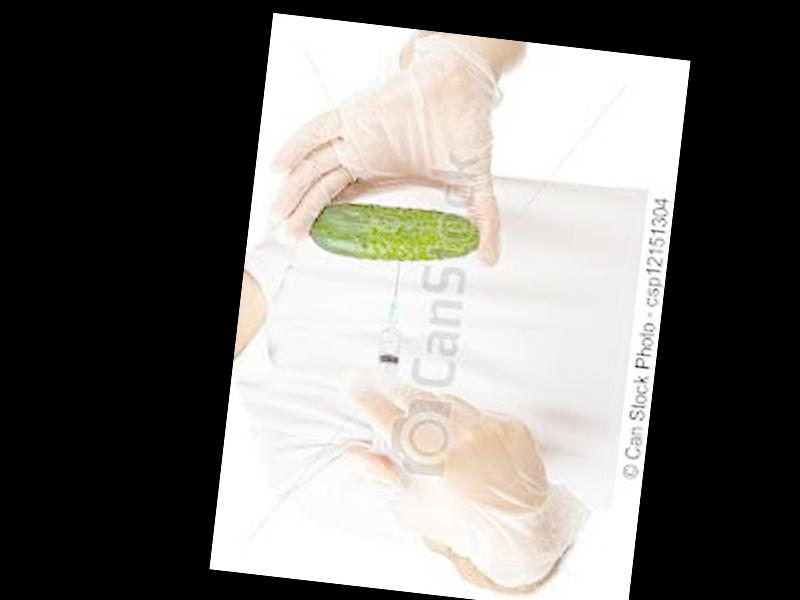Cucumber: (302, 194, 481, 269)
